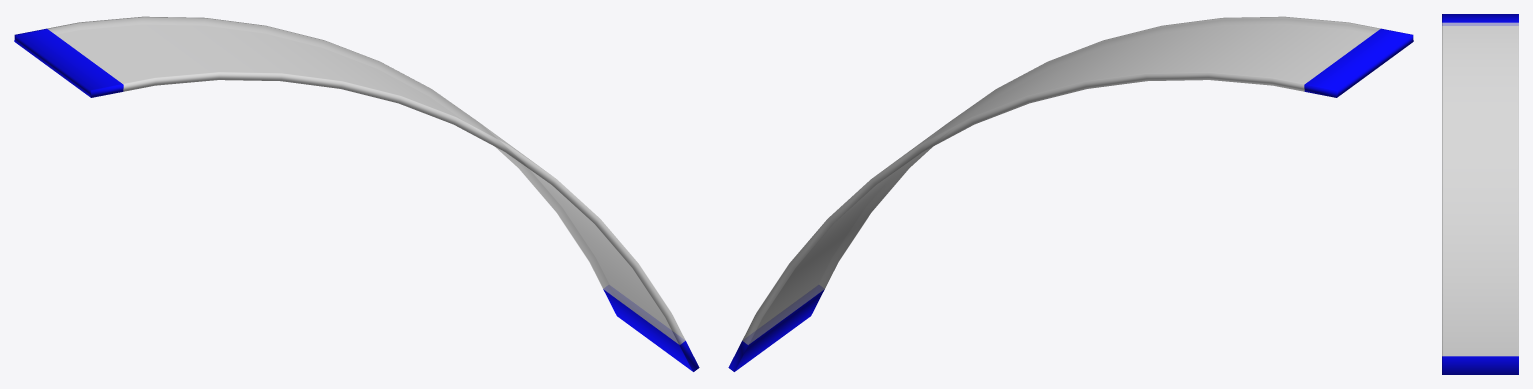
The model's file is LongNote03.fbx.
The picture shows the model from 3 angles, left to right: view 1: azimuth 30°, elevation 25°; view 2: azimuth 150°, elevation 25°; view 3: azimuth 270°, elevation 25°; orthographic projection. The views are drawn at different scales.
Visible parts, largest first — view 1: LongNote03; view 2: LongNote03; view 3: LongNote03.
Boxes of the visible parts, x1,y1,x2,y2 form: LongNote03: [14, 16, 699, 371]; LongNote03: [728, 16, 1413, 371]; LongNote03: [1442, 14, 1518, 374].
Bounding box in the file's own units: 91.51 × 20 × 61.54.
